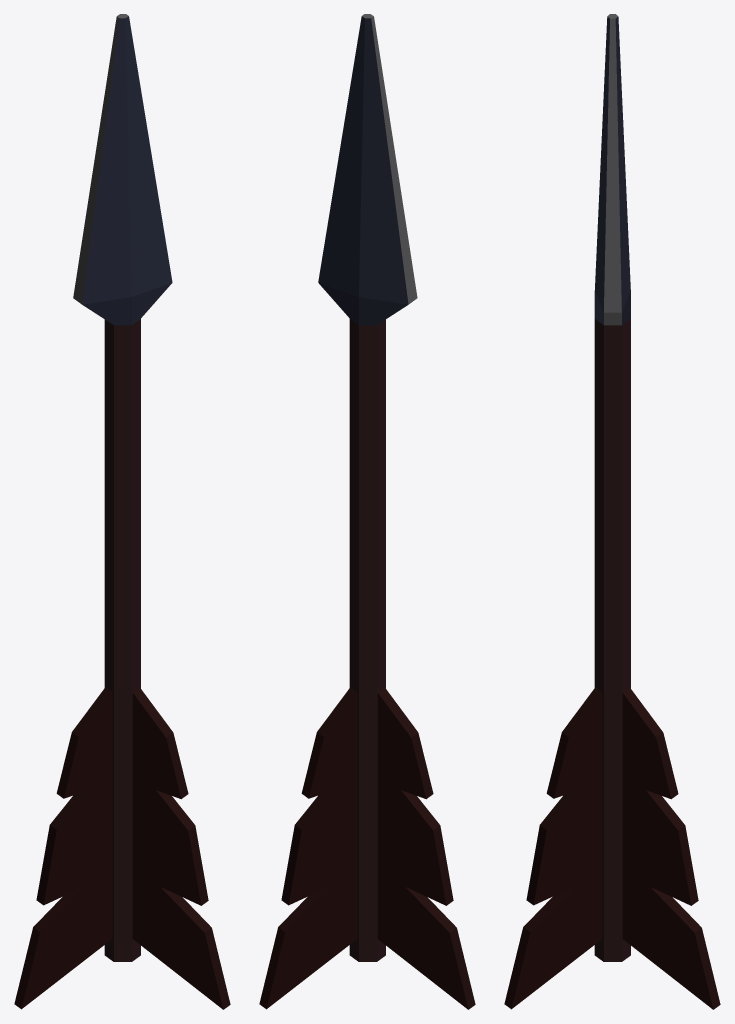
Rendered from Dart.obj.
3 views of the same model, side by side, from view 1: azimuth 30°, elevation 25°; view 2: azimuth 150°, elevation 25°; view 3: azimuth 270°, elevation 25° (orthographic).
Visible parts, largest first — view 1: Dart_Cylinder.031; view 2: Dart_Cylinder.031; view 3: Dart_Cylinder.031.
Part boxes in pixels (box(x1,y1,x2,y2)): Dart_Cylinder.031: box(14, 14, 230, 1009); Dart_Cylinder.031: box(259, 14, 475, 1009); Dart_Cylinder.031: box(504, 14, 720, 1009).
Size of the model in its own units: 0.0736 by 0.4171 by 0.0847.
